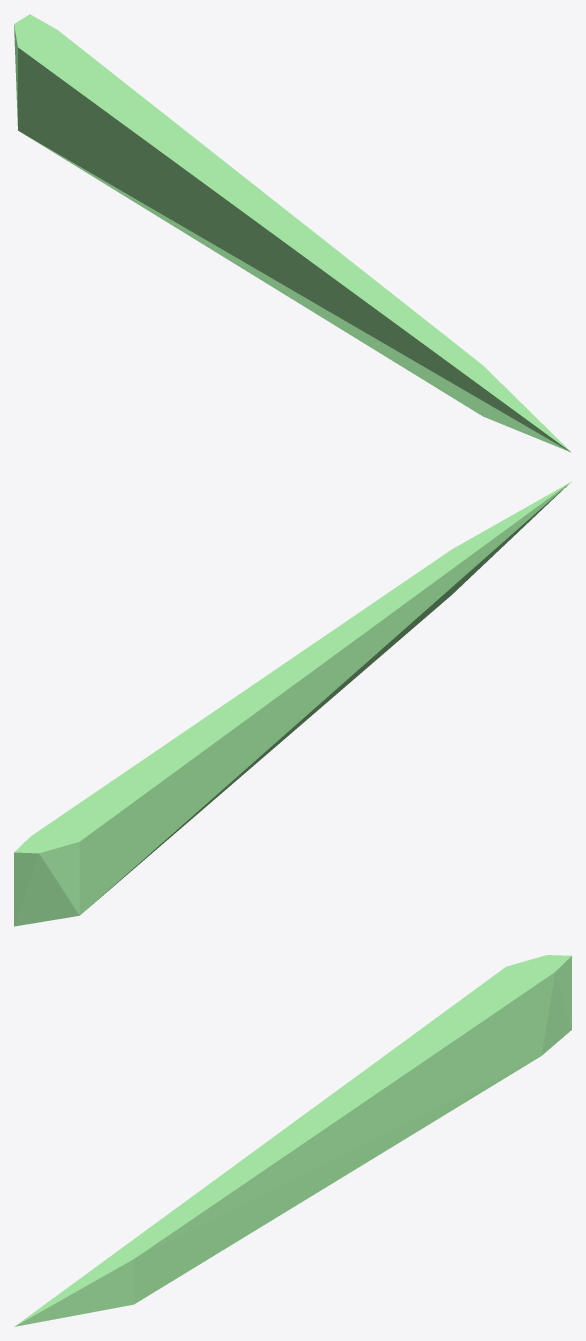
Rendered from dvkr_robot_Lp11_respondable_PSM2_coll_3.dae.
3 renders of one model, top to bottom at view 1: azimuth 30°, elevation 25°; view 2: azimuth 150°, elevation 25°; view 3: azimuth 330°, elevation 25°, orthographic. The views are drawn at different scales.
Visible parts, largest first — view 1: Node_0000023514CDA040; view 2: Node_0000023514CDA040; view 3: Node_0000023514CDA040.
Part boxes in pixels (bbox=[...]): Node_0000023514CDA040: bbox=[14, 14, 571, 452]; Node_0000023514CDA040: bbox=[14, 481, 571, 926]; Node_0000023514CDA040: bbox=[14, 955, 571, 1326].
Size of the model in its own units: 0.00776 by 0.013 by 0.1655.
